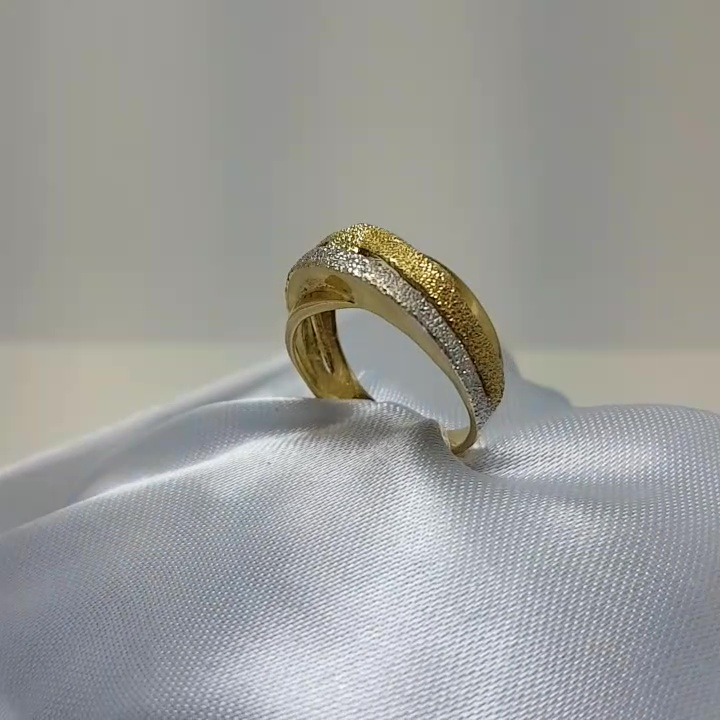Ring 5: (258, 213, 534, 465)
